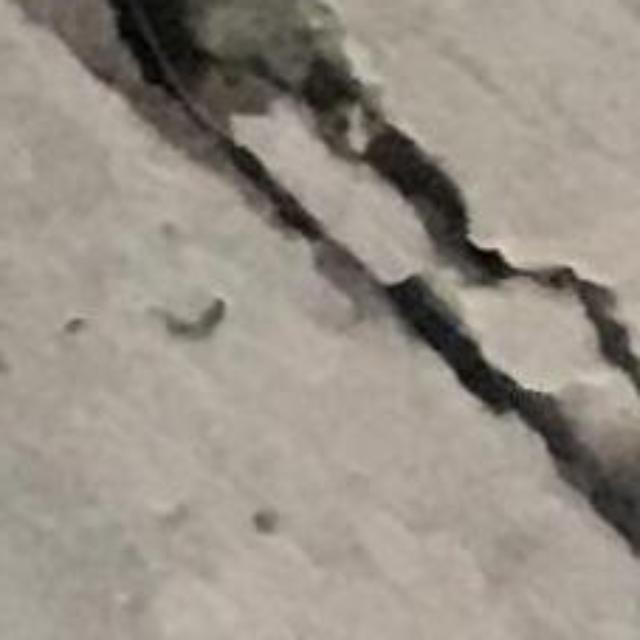crack: (14, 0, 639, 554)
